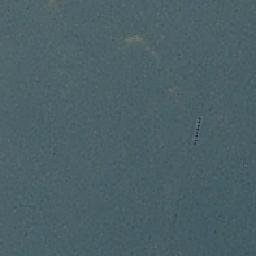debris: (126, 35, 144, 43)
